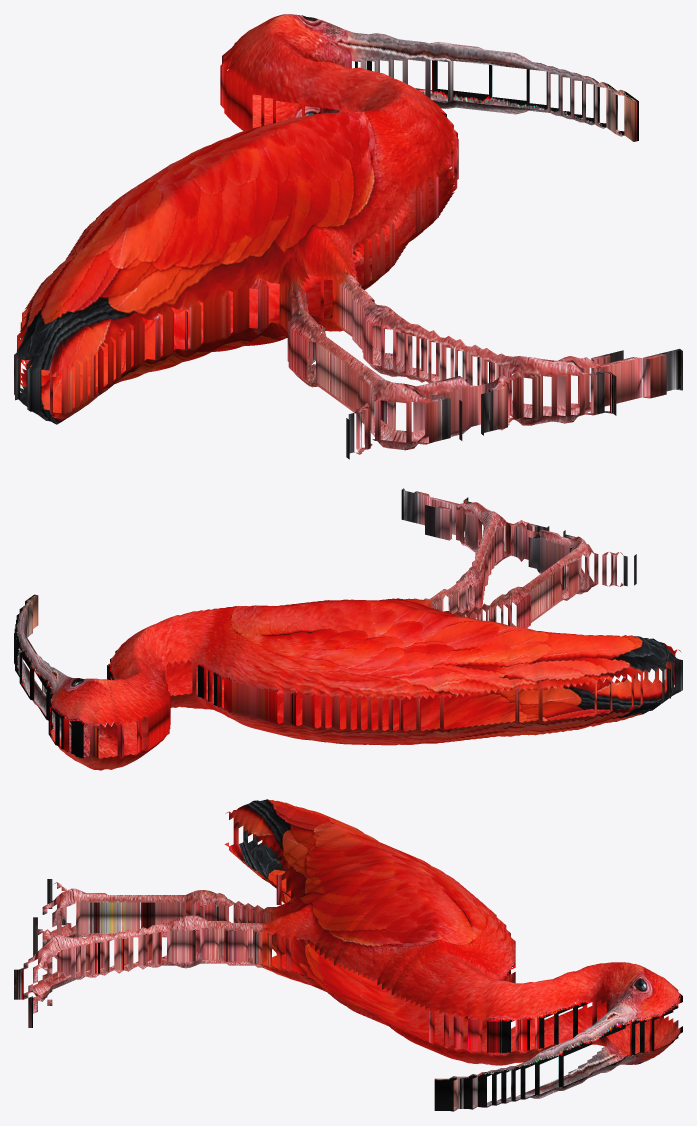
File: ibis.glb
3 renders of one model, top to bottom at view 1: azimuth 30°, elevation 25°; view 2: azimuth 150°, elevation 25°; view 3: azimuth 270°, elevation 25°, orthographic. The views are drawn at different scales.
Visible parts, largest first — view 1: ibis_obj; view 2: ibis_obj; view 3: ibis_obj.
Part boxes in pixels (x1,y1,x2,y2): ibis_obj: (14,14,682,459); ibis_obj: (14,488,682,770); ibis_obj: (14,799,682,1111).
Bounding box in the file's own units: 1.8 × 0.44 × 1.87.
Materials: 1 (1 with a texture image).
